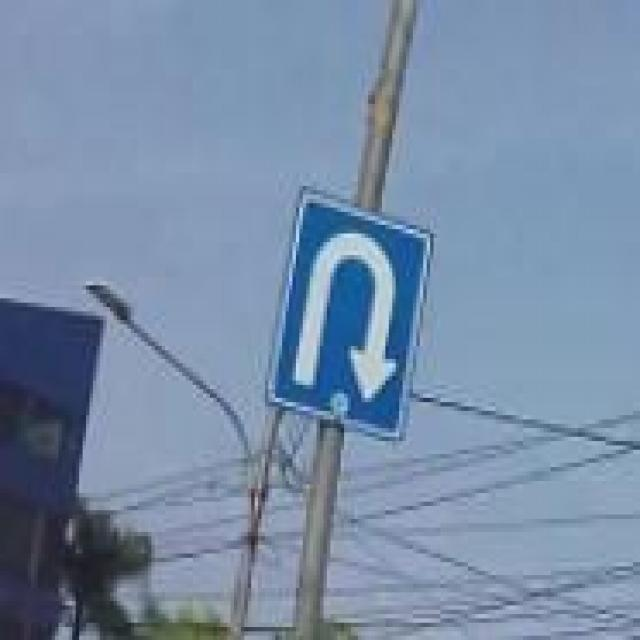traffic sign: (272, 190, 420, 441)
